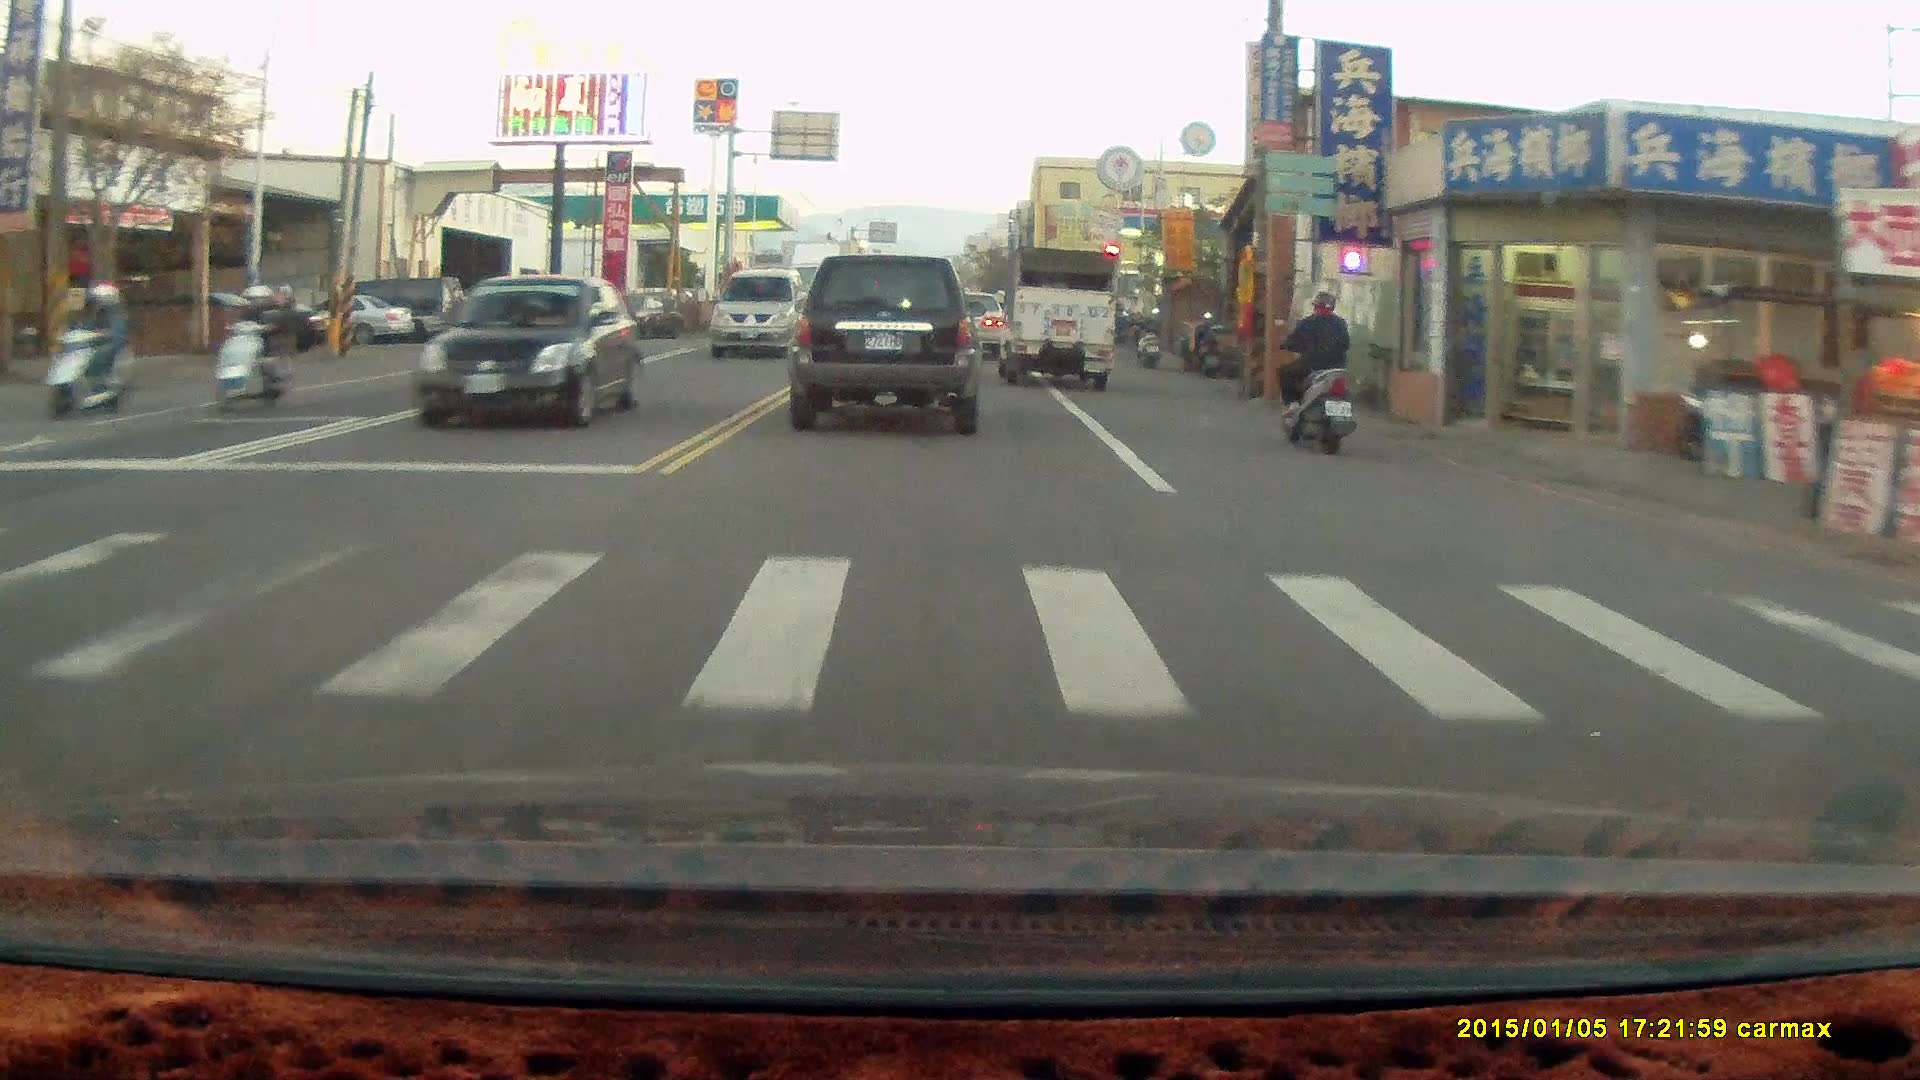rider: (1266, 276, 1359, 443), (40, 275, 132, 423), (207, 272, 303, 407)
vehicle: (785, 252, 982, 433), (417, 271, 646, 423), (993, 244, 1116, 391), (708, 266, 813, 358), (466, 287, 587, 354)
